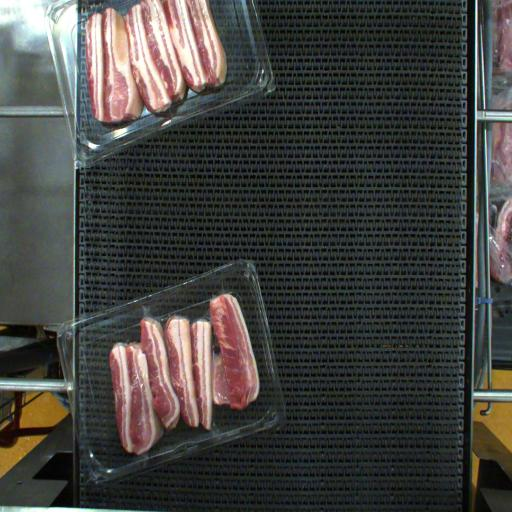loose-meat: (209, 295, 260, 413)
packaging-error: (129, 278, 157, 334)
